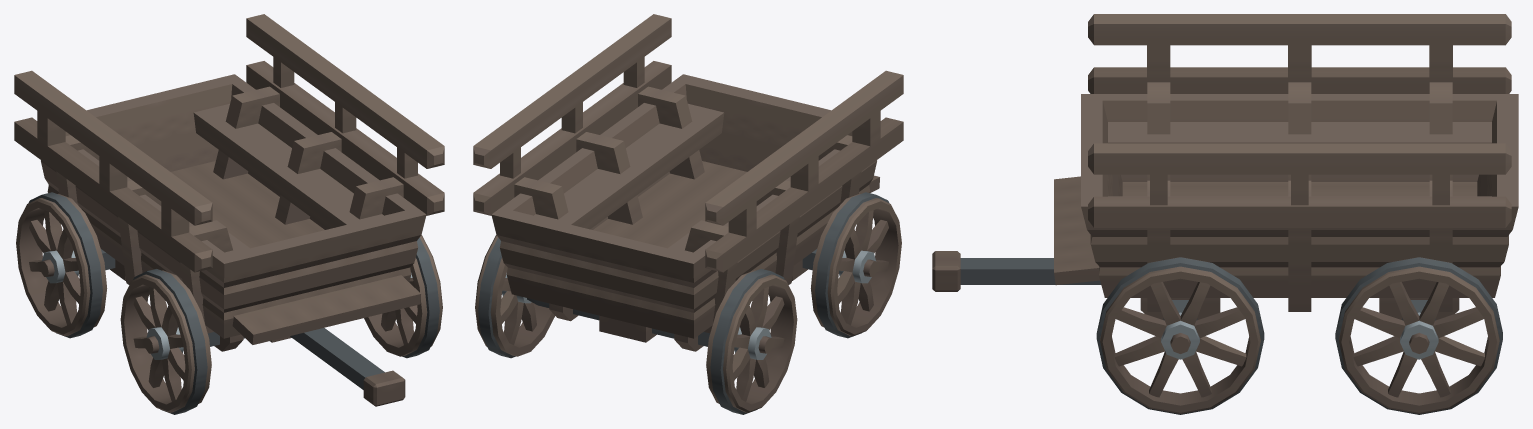
File: halloween-wagon.gltf
3 views of the same model, side by side, from view 1: azimuth 30°, elevation 25°; view 2: azimuth 150°, elevation 25°; view 3: azimuth 270°, elevation 25° (orthographic). The views are drawn at different scales.
Visible parts, largest first — view 1: wagon, wagon_wheel_rear_right, wagon_wheel_front_right, wagon_wheel_front_left; view 2: wagon, wagon_wheel_front_right, wagon_wheel_rear_right, wagon_wheel_rear_left; view 3: wagon, wagon_wheel_rear_left, wagon_wheel_front_left.
Part boxes in pixels (left/top/right/bottom): wagon: left=14, top=14, right=444, bottom=406; wagon_wheel_rear_right: left=16, top=192, right=107, bottom=338; wagon_wheel_front_right: left=120, top=269, right=211, bottom=414; wagon_wheel_front_left: left=364, top=235, right=442, bottom=358; wagon: left=473, top=14, right=903, bottom=351; wagon_wheel_front_right: left=810, top=192, right=901, bottom=338; wagon_wheel_rear_right: left=706, top=269, right=797, bottom=414; wagon_wheel_rear_left: left=475, top=235, right=554, bottom=358; wagon: left=932, top=14, right=1518, bottom=320; wagon_wheel_rear_left: left=1335, top=257, right=1502, bottom=414; wagon_wheel_front_left: left=1096, top=257, right=1264, bottom=414.
Bounding box in the file's own units: 2.97 × 2.47 × 4.99.
1 material, 1 textured.
